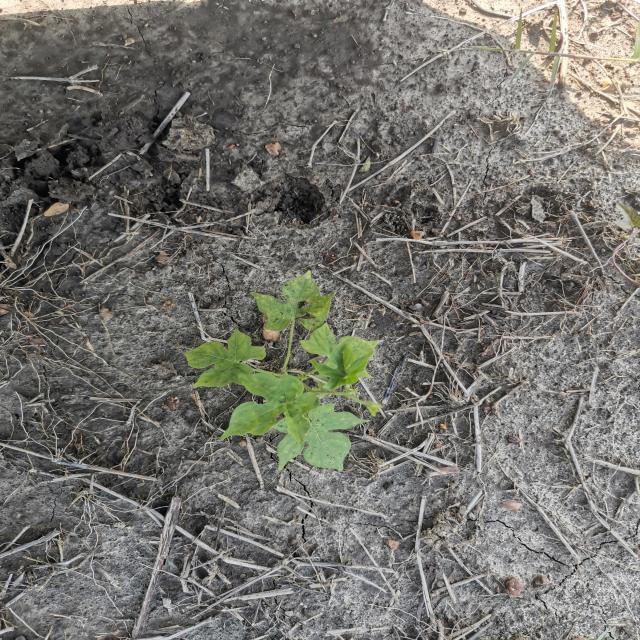MorningGlory: (178, 268, 388, 476)
